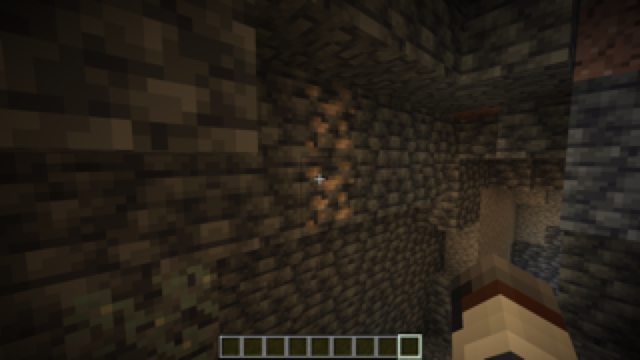iron: (296, 74, 359, 234)
